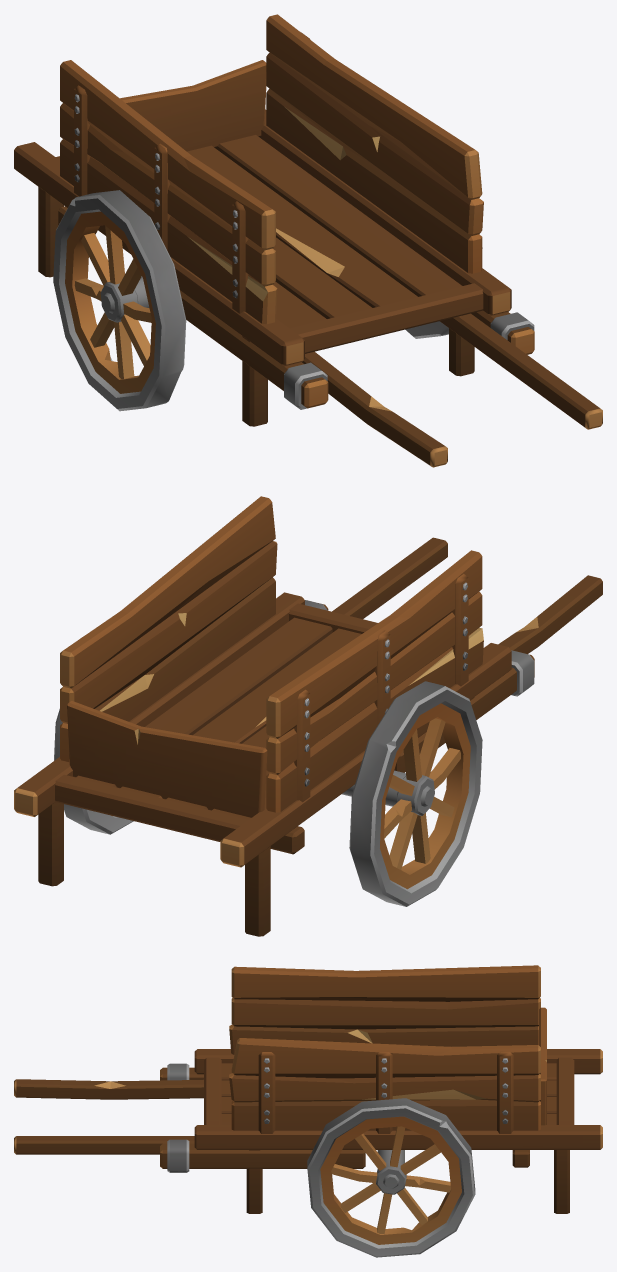
The model's file is Cart_1_A.glb.
3 renders of one model, top to bottom at view 1: azimuth 30°, elevation 25°; view 2: azimuth 150°, elevation 25°; view 3: azimuth 270°, elevation 25°, orthographic. The views are drawn at different scales.
Visible parts, largest first — view 1: Cart_1_A; view 2: Cart_1_A; view 3: Cart_1_A.
Part boxes in pixels (x1,y1,x2,y2): Cart_1_A: (14,14,602,467); Cart_1_A: (14,496,602,936); Cart_1_A: (14,965,602,1257).
Size of the model in its own units: 1.88 by 1.46 by 3.94.
Materials: 2 (2 with a texture image).
